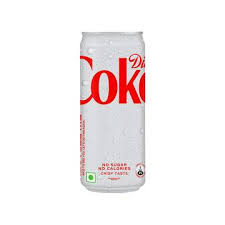Drink can: (75, 14, 149, 192)
